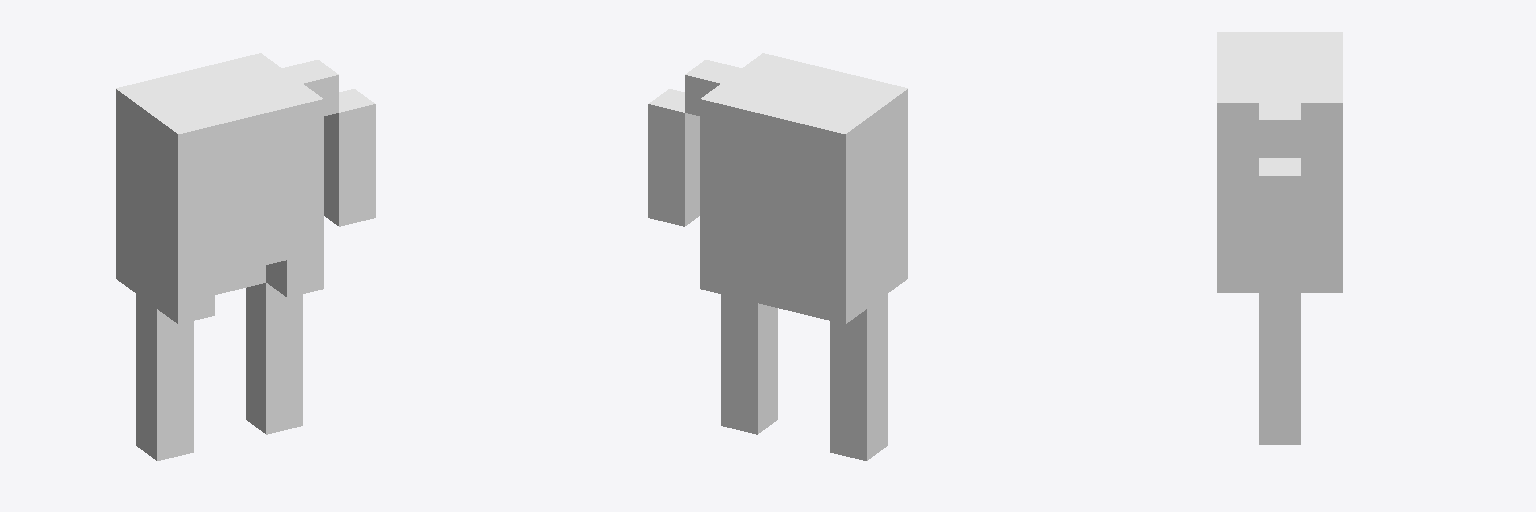
Rendered from scummBarPirateKing01_body.obj.
3 views of the same model, side by side, from view 1: azimuth 30°, elevation 25°; view 2: azimuth 150°, elevation 25°; view 3: azimuth 270°, elevation 25° (orthographic).
Size of the model in its own units: 6 by 9 by 3.